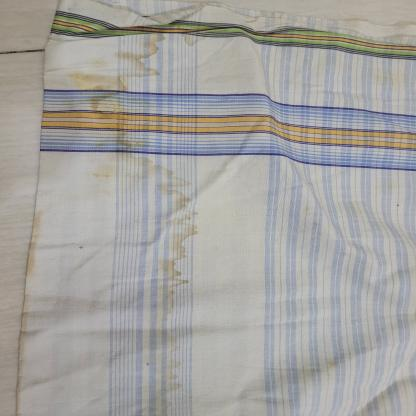spot: (8, 2, 224, 416), (46, 231, 191, 334), (152, 209, 210, 390), (97, 136, 180, 246), (118, 289, 183, 414), (54, 340, 188, 388), (68, 87, 138, 172), (81, 260, 199, 306), (79, 33, 153, 77), (107, 18, 205, 48)
